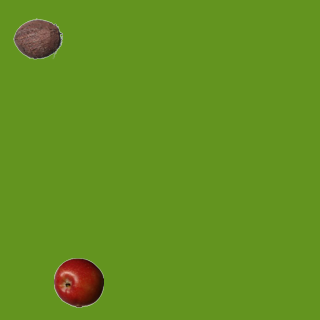Apple Braeburn: (53, 257, 103, 307)
Cocos: (12, 13, 62, 63)
